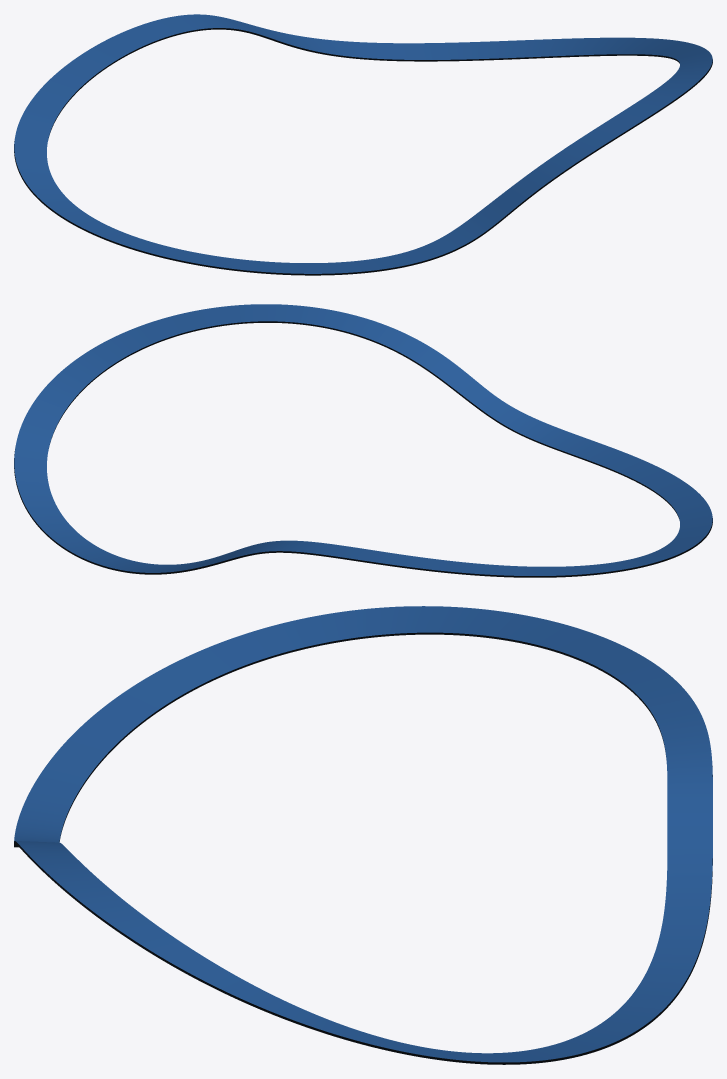
Rendered from aurora-loop-track.obj.
3 renders of one model, top to bottom at view 1: azimuth 30°, elevation 25°; view 2: azimuth 150°, elevation 25°; view 3: azimuth 270°, elevation 25°, orthographic. The views are drawn at different scales.
Parts seen in each view (by area): view 1: prismatic-road_part_0, carbon-road-chassis_part_1; view 2: prismatic-road_part_0, carbon-road-chassis_part_1; view 3: prismatic-road_part_0, carbon-road-chassis_part_1.
Boxes of the visible parts, x1,y1,x2,y2 form: prismatic-road_part_0: (14,14,712,273); carbon-road-chassis_part_1: (14,28,712,275); prismatic-road_part_0: (14,304,712,575); carbon-road-chassis_part_1: (14,321,712,577); prismatic-road_part_0: (14,606,712,1062); carbon-road-chassis_part_1: (14,632,712,1064).
Size of the model in its own units: 320 by 44.44 by 218.
